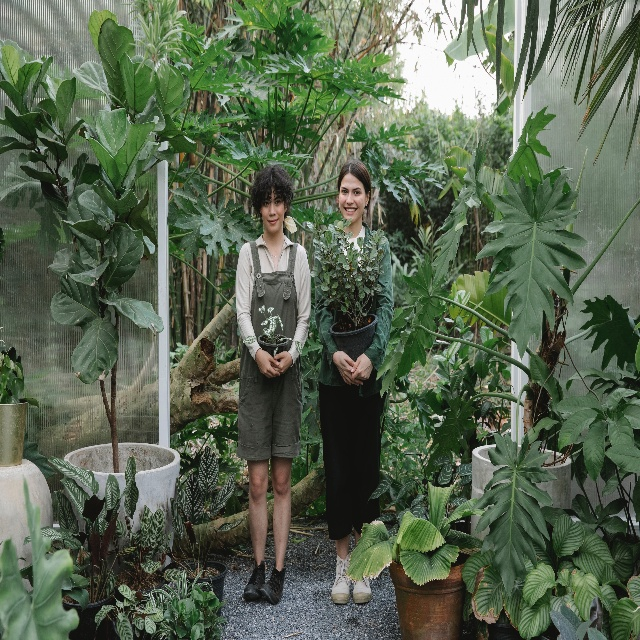Sin_guantes: (333, 350, 363, 387), (254, 348, 280, 378), (351, 353, 374, 381), (273, 350, 292, 374)
